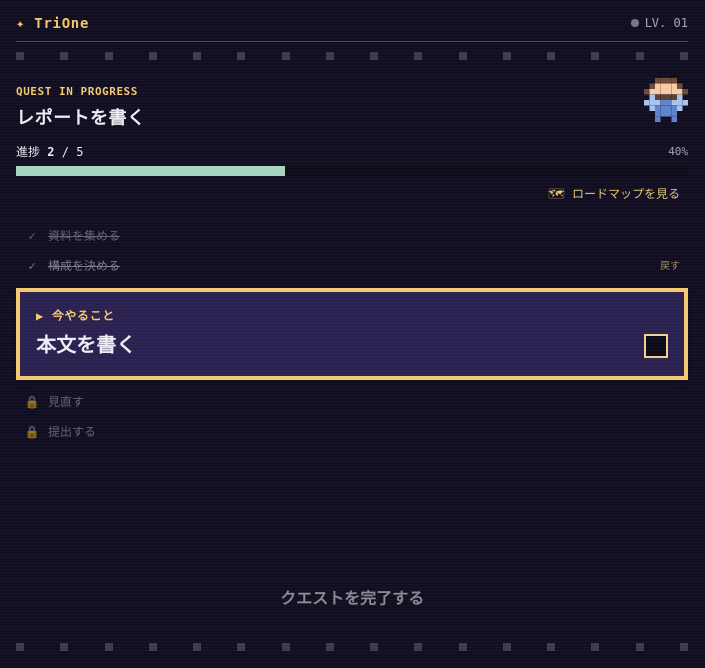
it: QuestProgressScreen › 順番どおりに 1 つずつ進める › 直前の完了済み（戻す可能）項目はフォーカス可能で、外すと今やることがそれに戻る
This screenshot has width=705, height=668.
Step 1. Click the checkbox labelled "✓ 構成を決める 戻す" → coordinates (84, 266), box [16,254,688,278]
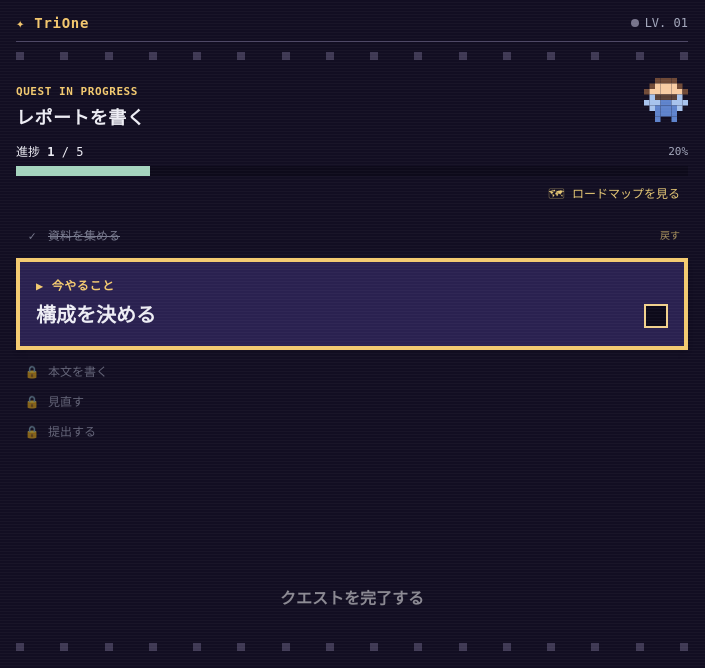
Result: the element "今やること" shows "構成を決める" at [36,303,156,327]
